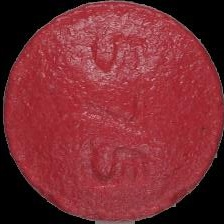0555-9043: (0, 0, 224, 224)
